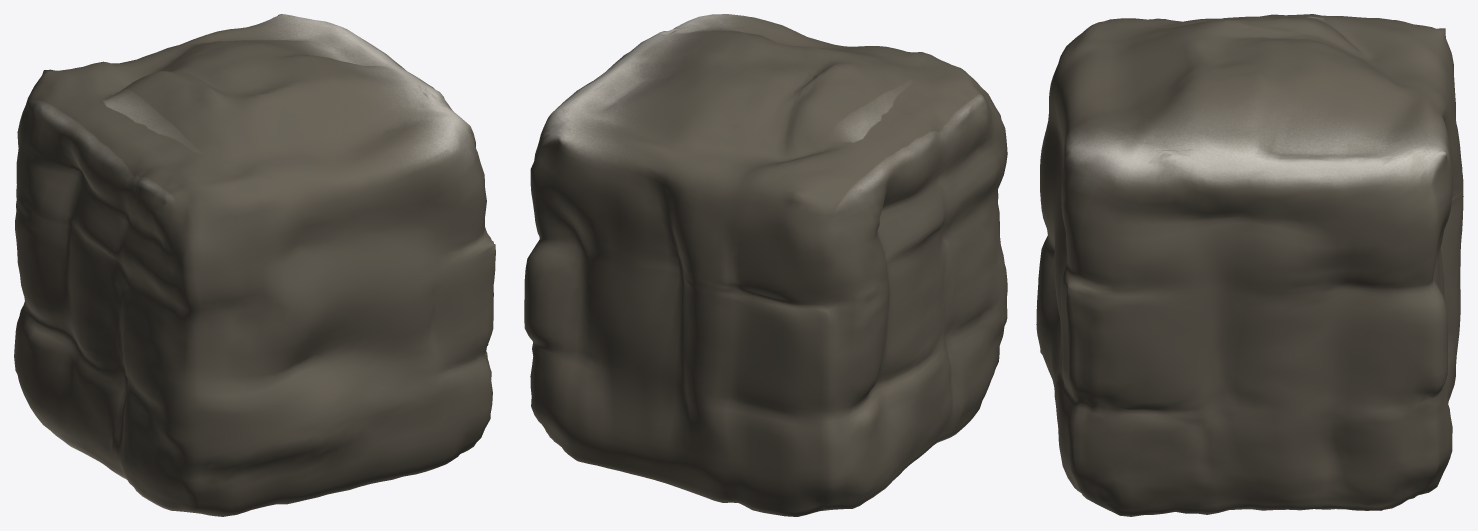
The model's file is Squared Rock.fbx.
3 views of the same model, side by side, from view 1: azimuth 30°, elevation 25°; view 2: azimuth 150°, elevation 25°; view 3: azimuth 270°, elevation 25° (orthographic). The views are drawn at different scales.
Parts seen in each view (by area): view 1: Squared Rock_Baked; view 2: Squared Rock_Baked; view 3: Squared Rock_Baked.
Boxes of the visible parts, box(x1,y1,x2,y2) form: Squared Rock_Baked: box(14, 14, 495, 516); Squared Rock_Baked: box(524, 14, 1007, 516); Squared Rock_Baked: box(1036, 14, 1463, 516).
Bounding box in the file's own units: 206 × 220 × 212.
Materials: 1 (1 with a texture image).
